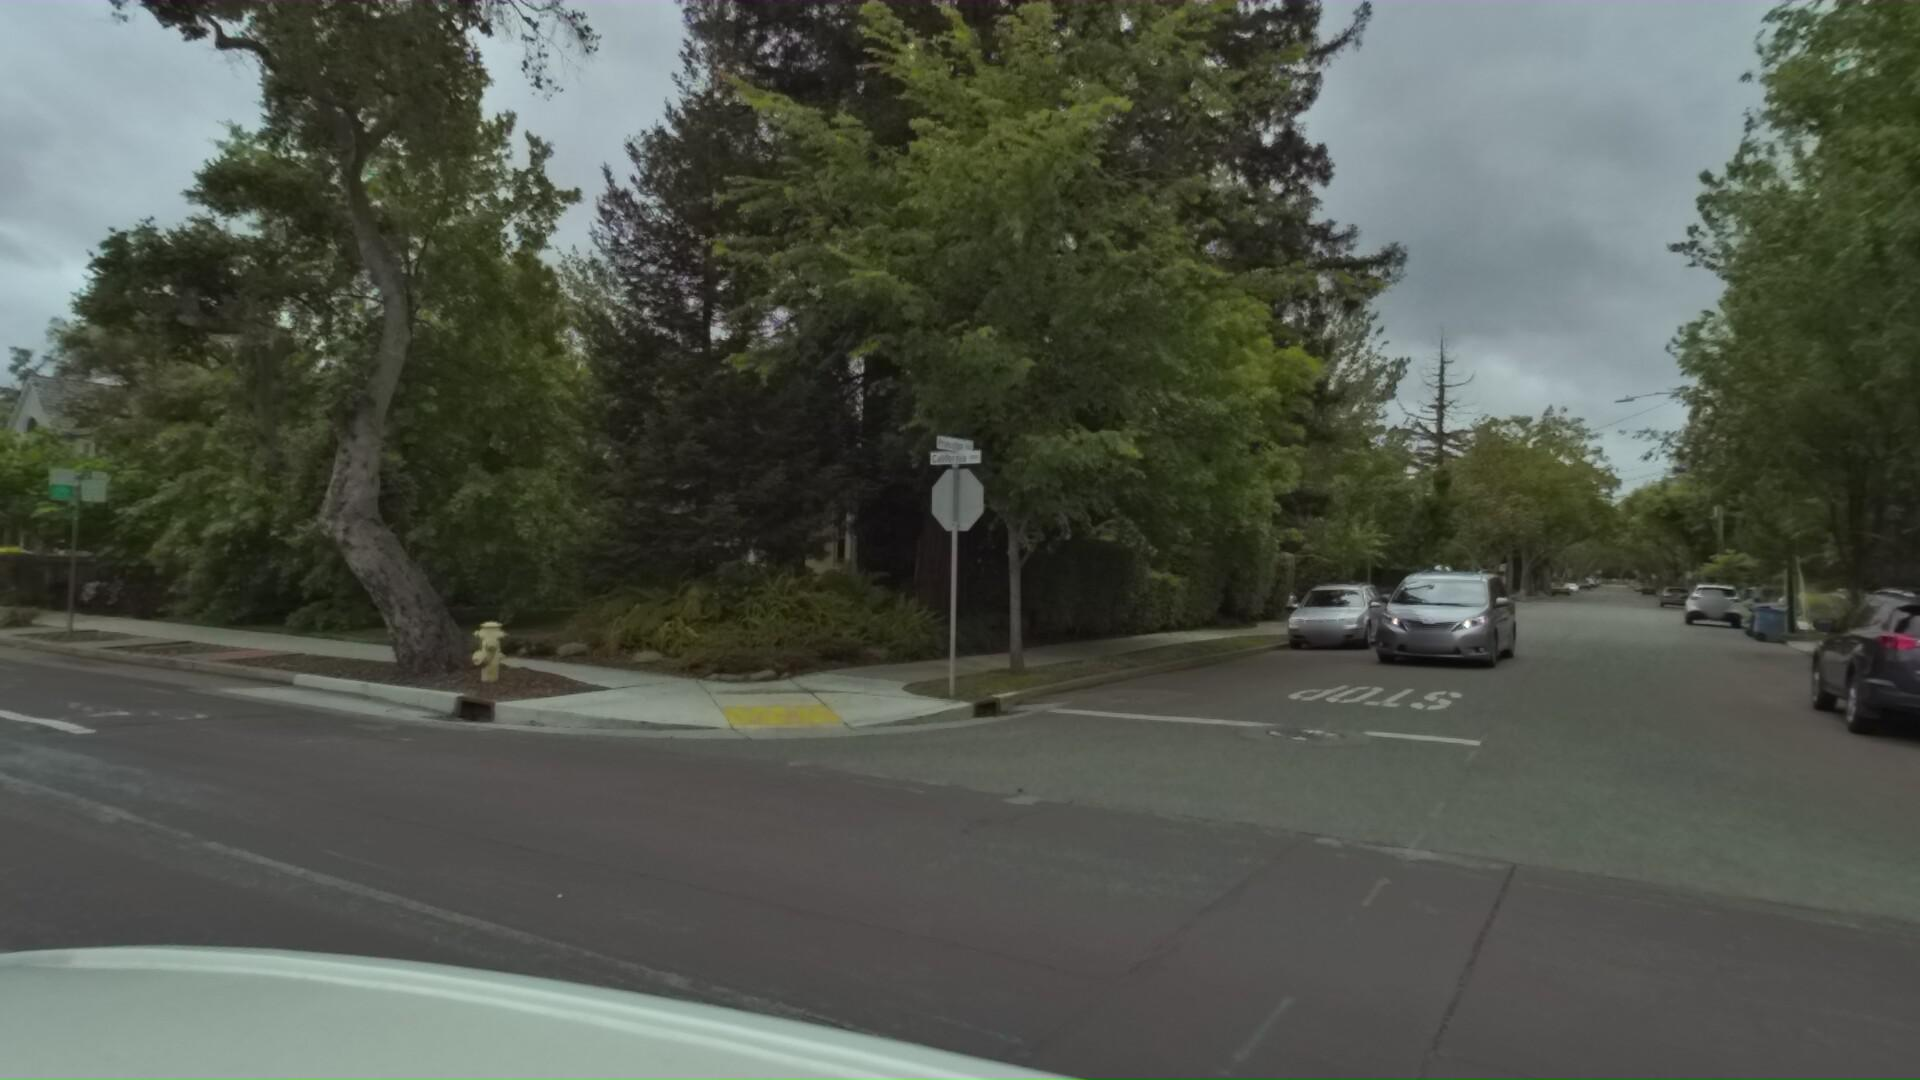car: (1756, 578, 1920, 764), (1340, 568, 1491, 671), (1255, 576, 1378, 650), (1660, 576, 1725, 626), (1408, 578, 1476, 620), (1429, 578, 1490, 617), (1644, 578, 1679, 608)
